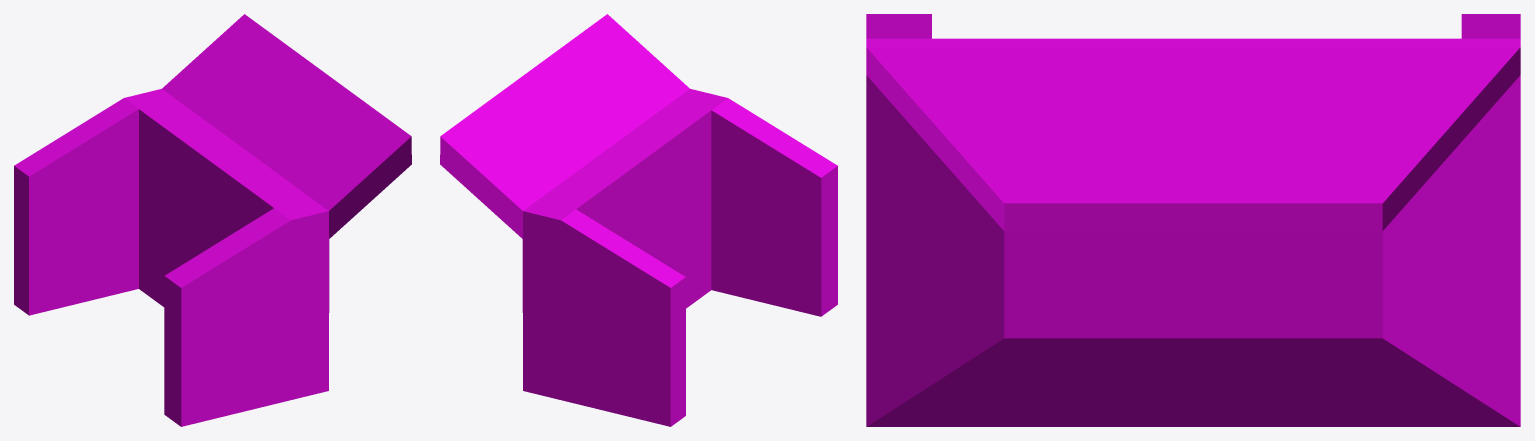
The model's file is Attachment_Type2_B.fbx.
The picture shows the model from 3 angles, left to right: view 1: azimuth 30°, elevation 25°; view 2: azimuth 150°, elevation 25°; view 3: azimuth 270°, elevation 25°; orthographic projection. The views are drawn at different scales.
Visible parts, largest first — view 1: Attachment_Type2_B; view 2: Attachment_Type2_B; view 3: Attachment_Type2_B.
Part boxes in pixels (left/top/right/bottom): Attachment_Type2_B: left=14, top=14, right=411, bottom=426; Attachment_Type2_B: left=440, top=14, right=837, bottom=426; Attachment_Type2_B: left=866, top=14, right=1520, bottom=426.
Bounding box in the file's own units: 11.59 × 9.76 × 12.62.
